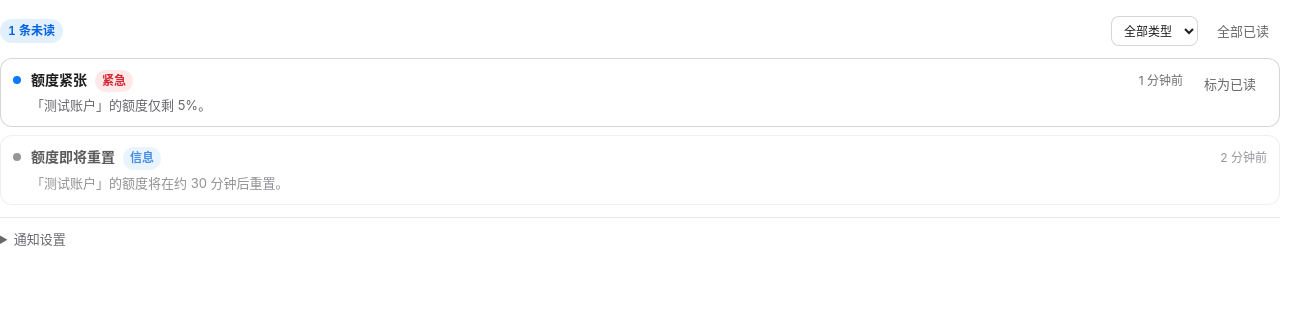
Test: NotificationSection › surfaces a failed mark-read instead of silently keeping the badge
The width and height of the screenshot is (1292, 317).
Click the button with aria-label "标记通知已读：额度紧张": [1230, 84] box [1193, 69, 1267, 99]
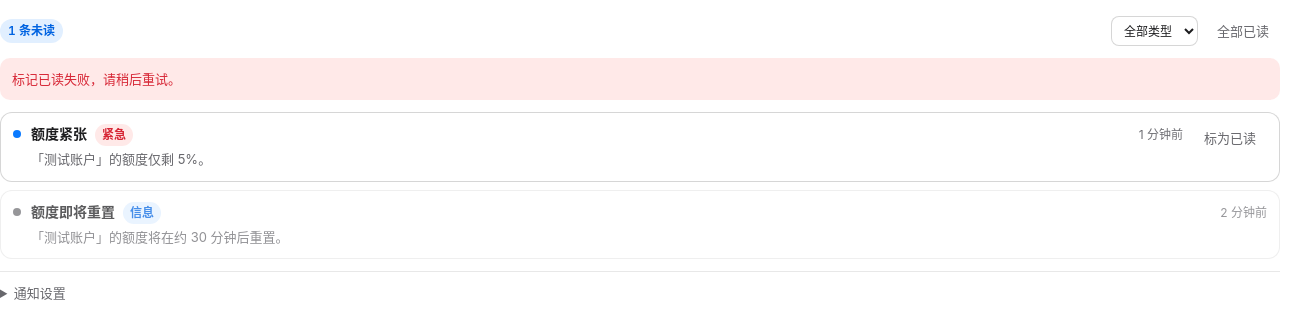
Expected: the text "1 条未读" is shown, [0, 19, 63, 43]
Now the message shows "标记已读失败", box [12, 71, 181, 87]
